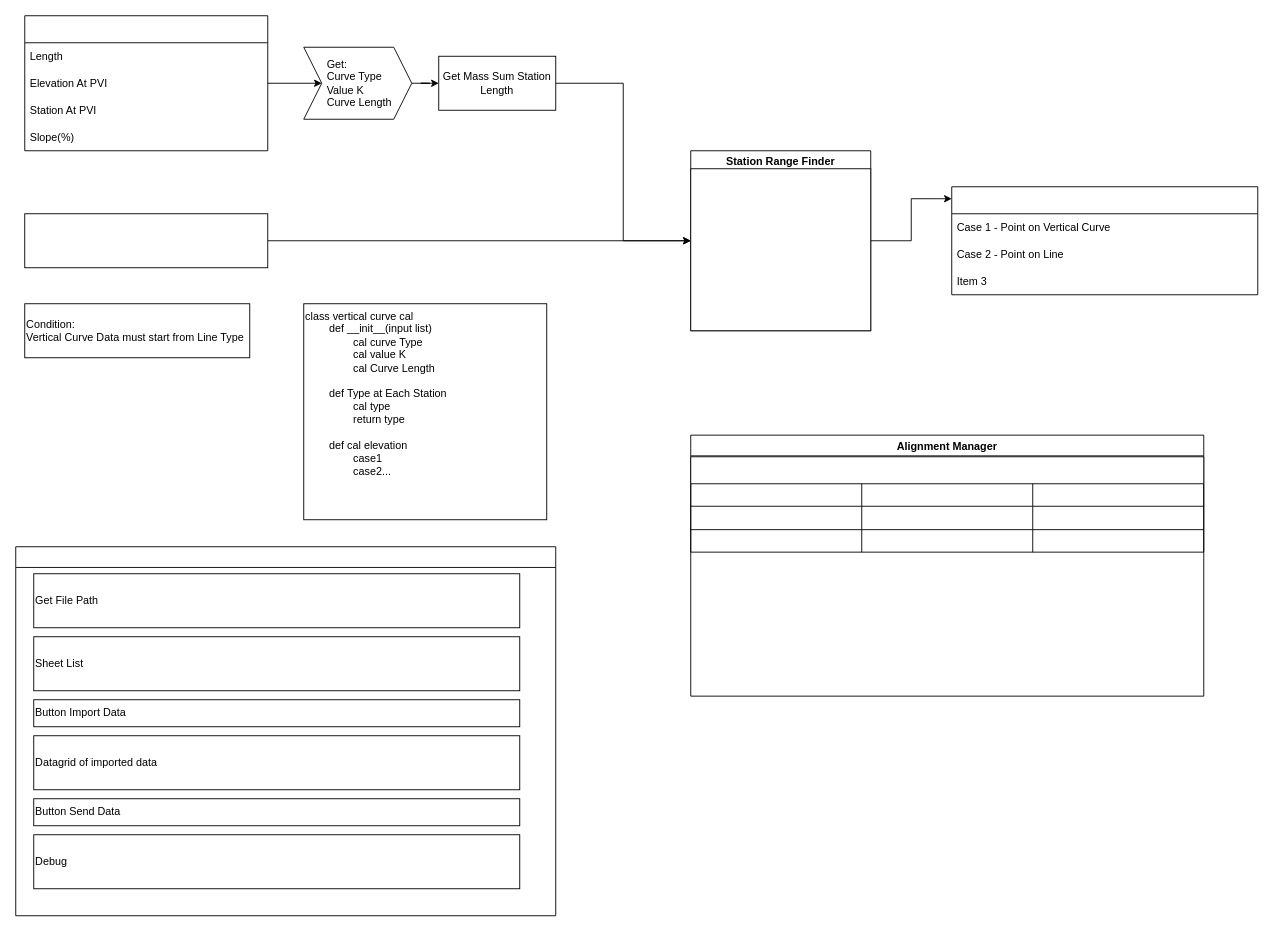
The diagram is 1274 pixels wide and 932 high, and some of its shapes have lost their labels. The shapes that lost their labels are listed below. From the top down, each one's box as (x1, y1, x2, y2) in pixels, then its label:
(24, 15, 268, 151): Input List
(24, 213, 268, 268): Station Set
(690, 168, 871, 331): Get Curve Type at Each Station
(951, 186, 1258, 295): Calculate Elevation at Each Station
(690, 456, 1204, 552): Table
(15, 546, 556, 916): Excel Import
